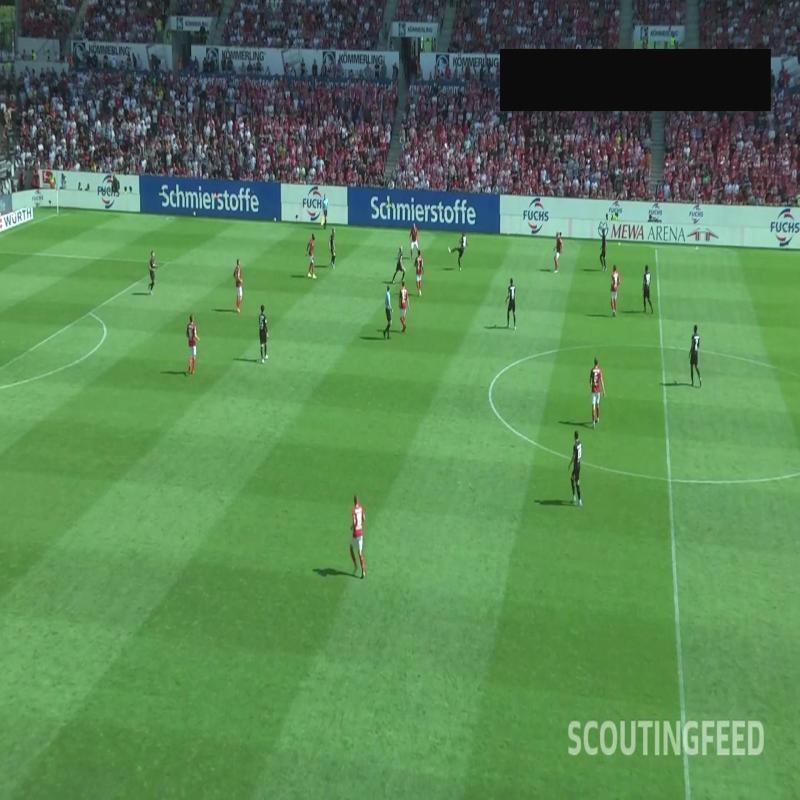1: (51, 206, 65, 220)
10: (83, 306, 97, 320)
13: (649, 240, 663, 254)
14: (656, 340, 670, 354)
15: (661, 471, 679, 489)
9: (162, 257, 175, 270)
c: (484, 380, 498, 394)
